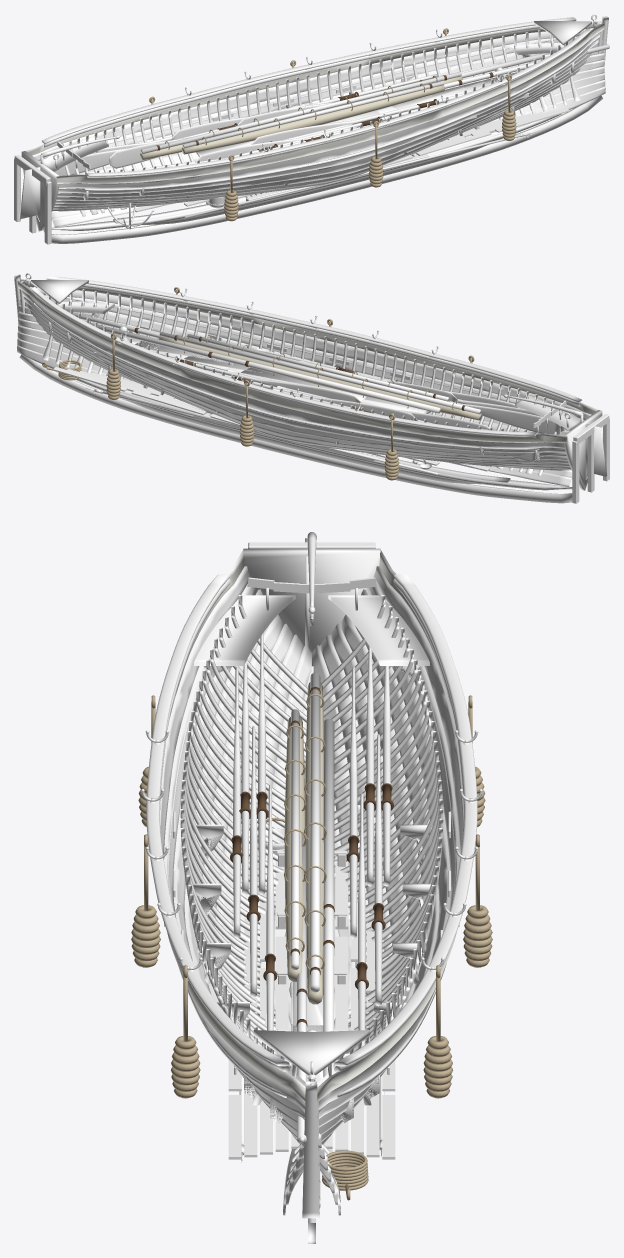
The model's file is rowing_cutter_25ft.glb.
3 views of the same model, one above another, from view 1: azimuth 30°, elevation 25°; view 2: azimuth 150°, elevation 25°; view 3: azimuth 270°, elevation 25° (orthographic). The views are drawn at different scales.
Parts seen in each view (by area): view 1: Planking_Clinker, Gunwale_Inwale_Rubstrake, Keel_Stem_Sternpost, Rig_Stowed, Frames, Keelson, Transom, Fenders, Bottom_Boards, Thwarts, Rudder, Oar_S1 (+13 smaller); view 2: Planking_Clinker, Gunwale_Inwale_Rubstrake, Keel_Stem_Sternpost, Rig_Stowed, Frames, Transom, Keelson, Thwarts, Bottom_Boards, Fenders, Oar_S4, Oar_P1 (+14 smaller); view 3: Planking_Clinker, Frames, Gunwale_Inwale_Rubstrake, Rig_Stowed, Bottom_Boards, Fenders, Transom, Stern_Sheets, Thwart_Knees, Breasthook_Knees, Keel_Stem_Sternpost, Oar_P2 (+15 smaller).
Boxes of the visible parts, bbox=[...] form: Planking_Clinker: bbox=[24, 20, 605, 227]; Gunwale_Inwale_Rubstrake: bbox=[41, 16, 606, 191]; Keel_Stem_Sternpost: bbox=[51, 16, 608, 243]; Rig_Stowed: bbox=[140, 44, 609, 160]; Frames: bbox=[61, 30, 580, 216]; Keelson: bbox=[113, 123, 530, 224]; Transom: bbox=[14, 151, 59, 244]; Fenders: bbox=[149, 28, 516, 221]; Bottom_Boards: bbox=[133, 108, 569, 212]; Thwarts: bbox=[195, 70, 521, 156]; Rudder: bbox=[19, 135, 119, 232]; Oar_S1: bbox=[251, 92, 470, 144]; Planking_Clinker: bbox=[17, 279, 598, 486]; Gunwale_Inwale_Rubstrake: bbox=[15, 275, 581, 450]; Keel_Stem_Sternpost: bbox=[14, 274, 572, 503]; Rig_Stowed: bbox=[69, 312, 481, 420]; Frames: bbox=[42, 289, 562, 475]; Transom: bbox=[564, 410, 609, 503]; Keelson: bbox=[92, 382, 510, 484]; Thwarts: bbox=[108, 332, 430, 413]; Bottom_Boards: bbox=[53, 367, 490, 471]; Fenders: bbox=[106, 287, 474, 480]; Oar_S4: bbox=[450, 401, 560, 434]; Oar_P1: bbox=[165, 356, 361, 402]; Planking_Clinker: bbox=[160, 550, 463, 1215]; Frames: bbox=[180, 595, 443, 1194]; Gunwale_Inwale_Rubstrake: bbox=[146, 574, 477, 1097]; Rig_Stowed: bbox=[283, 673, 334, 1143]; Bottom_Boards: bbox=[228, 844, 395, 1159]; Fenders: bbox=[131, 695, 492, 1098]; Transom: bbox=[243, 542, 380, 652]; Stern_Sheets: bbox=[194, 595, 429, 665]; Thwart_Knees: bbox=[191, 824, 432, 1105]; Breasthook_Knees: bbox=[253, 1030, 370, 1075]; Keel_Stem_Sternpost: bbox=[302, 1081, 320, 1243]; Oar_P2: bbox=[371, 734, 385, 1006].
Size of the model in its own units: 8.17 by 1.56 by 2.17.
